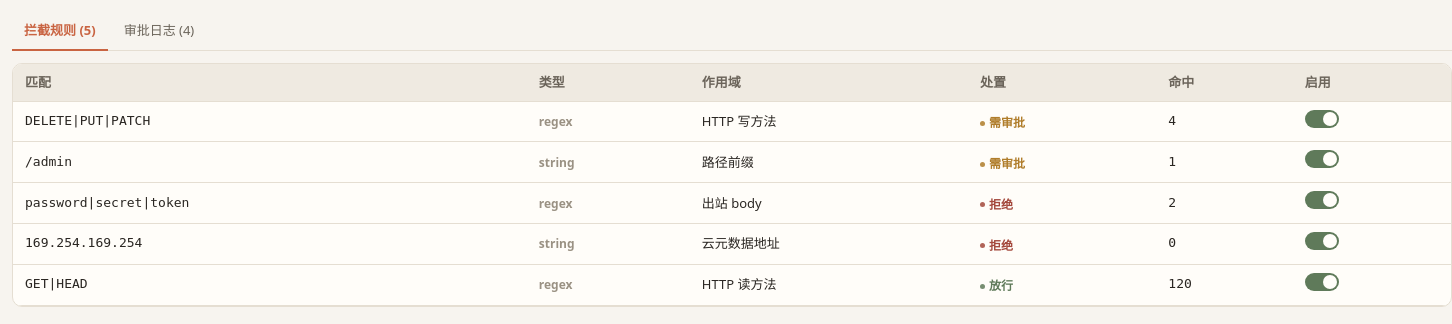
Test case: Guard（拦截规则 + 审批日志） › 切到审批日志 Tab 显示决定记录
What coordinates should you click on to do the following:
click the tab "审批日志 (4)"
I would click on:
 (159, 31)
Its box is [112, 12, 206, 51].
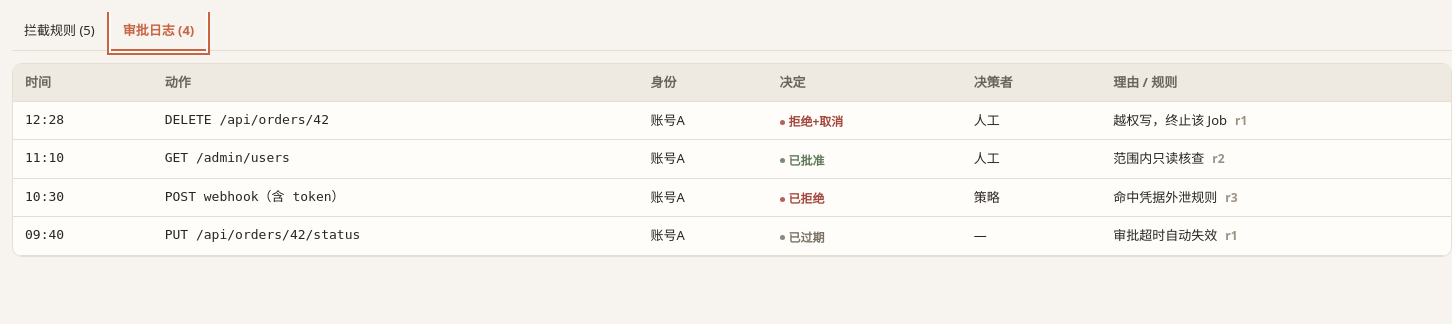
expect the text "拒绝+取消" is shown: met, box [780, 113, 843, 131]
expect the text "DELETE /api/orders/42" is shown: met, box [153, 101, 639, 140]
